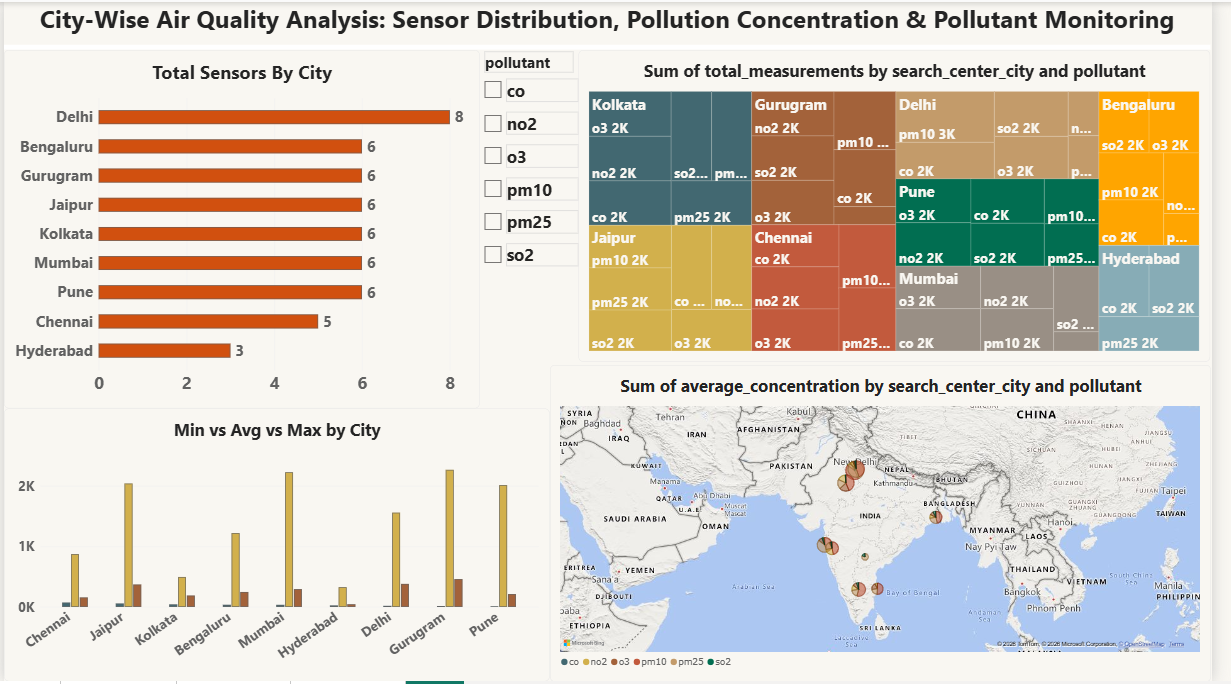

Layout of this report page (visuals, bound fields, positions):
{"tool":"powerbi","page":{"name":"Page 2","canvas":[1920,1080],"ordinal":1},"visuals":[{"type":"clusteredBarChart","title":"Total Sensors By City","fields":{"Category":["`workspace` `smartair` `gold_city_aqi_summary`.search_center_city"],"Y":["Sum(`workspace` `smartair` `gold_city_aqi_summary`.total_sensors)"]},"box":[0,76.3,756.3,570.2],"z":0},{"type":"slicer","fields":{"Values":["`workspace` `smartair` `gold_city_aqi_summary`.pollutant"]},"box":[756.3,78.7,157.5,498.7],"z":1000},{"type":"clusteredColumnChart","title":"Min vs Avg vs Max by City","fields":{"Category":["`workspace` `smartair` `gold_city_aqi_summary`.search_center_city"],"Y":["Sum(`workspace` `smartair` `gold_city_aqi_summary`.minimum_concentration)","Sum(`workspace` `smartair` `gold_city_aqi_summary`.maximum_concentration)","Sum(`workspace` `smartair` `gold_city_aqi_summary`.average_concentration)"]},"box":[0,646.5,867.8,433.9],"z":2000},{"type":"map","fields":{"Category":["`workspace` `smartair` `gold_city_aqi_summary`.search_center_city"],"Series":["`workspace` `smartair` `gold_city_aqi_summary`.pollutant"],"Size":["Sum(`workspace` `smartair` `gold_city_aqi_summary`.average_concentration)"]},"box":[867.8,576.6,1051.3,503.8],"z":3000},{"type":"treemap","fields":{"Details":["`workspace` `smartair` `gold_city_aqi_summary`.pollutant"],"Group":["`workspace` `smartair` `gold_city_aqi_summary`.search_center_city"],"Values":["Sum(`workspace` `smartair` `gold_city_aqi_summary`.total_measurements)"]},"box":[913.8,76.3,1004.5,496.3],"z":4000},{"type":"shape","title":" City-Wise Air Quality Analysis: Sensor Distribution, Pollution Concentration & Pollutant Monitoring","box":[0,0,1919,75.7],"z":5000}]}

Visuals, with their boxes in screenshot pixels (x1, y1, x2, y2), scaled from the page's 1920x1080 canvas onto the 1231x684 screenshot:
"Total Sensors By City" clusteredBarChart: 0,48,485,409
slicer - `workspace` `smartair` `gold_city_aqi_summary`.pollutant: 485,50,586,366
"Min vs Avg vs Max by City" clusteredColumnChart: 0,409,556,683
map - `workspace` `smartair` `gold_city_aqi_summary`.search_center_city x `workspace` `smartair` `gold_city_aqi_summary`.pollutant: 556,365,1230,683
treemap - `workspace` `smartair` `gold_city_aqi_summary`.pollutant x `workspace` `smartair` `gold_city_aqi_summary`.search_center_city: 586,48,1230,363
" City-Wise Air Quality Analysis: Sensor Distribution, Pollution Concentration & Pollutant Monitoring" shape: 0,0,1230,48
